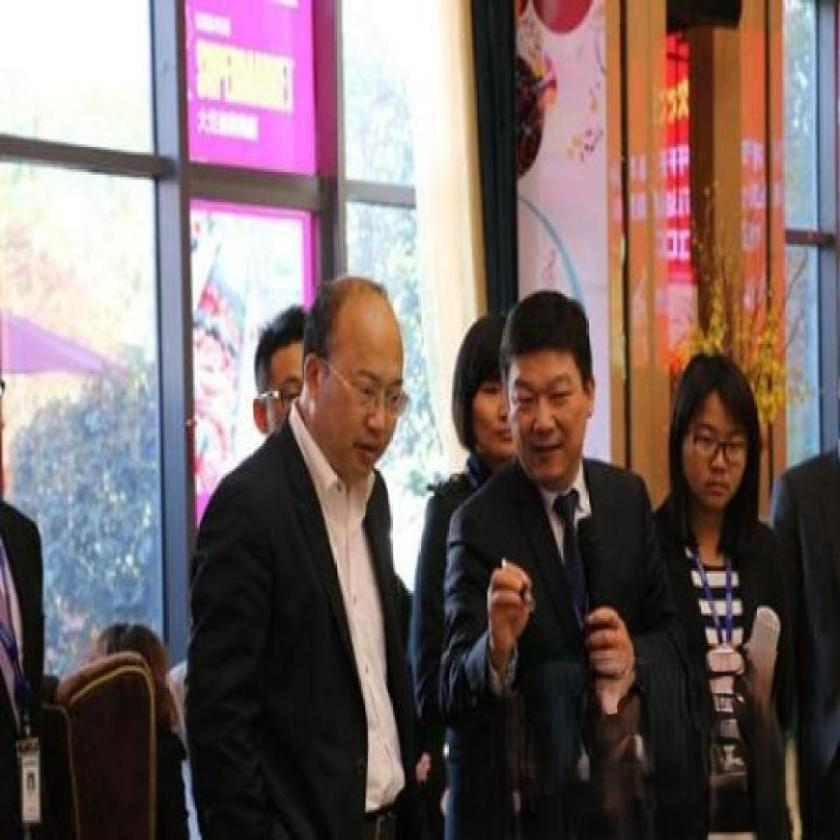Sin_casco: (668, 347, 764, 540), (308, 276, 406, 465), (507, 288, 598, 474)
